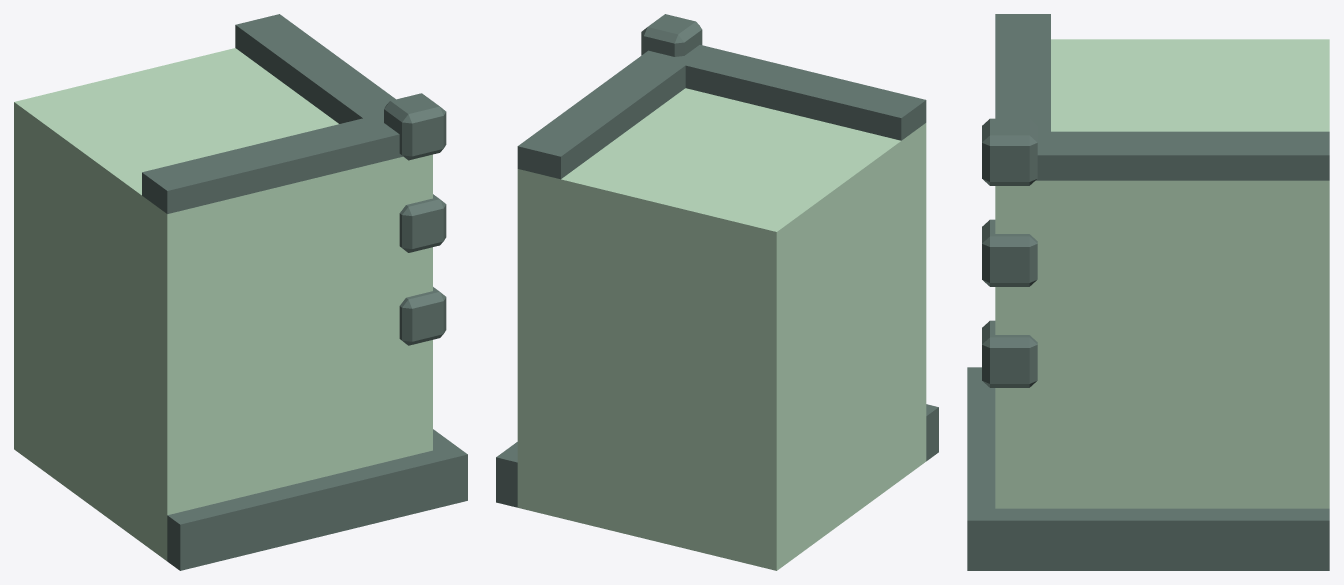
Rendered from GroundConcave.fbx.
The picture shows the model from 3 angles, left to right: view 1: azimuth 30°, elevation 25°; view 2: azimuth 150°, elevation 25°; view 3: azimuth 270°, elevation 25°; orthographic projection. The views are drawn at different scales.
Visible parts, largest first — view 1: GroundConcave; view 2: GroundConcave; view 3: GroundConcave.
Part boxes in pixels (x1,y1,x2,y2): GroundConcave: [14, 14, 467, 570]; GroundConcave: [496, 14, 938, 570]; GroundConcave: [967, 14, 1329, 570].
Size of the model in its own units: 1.3 by 1.69 by 1.3.
